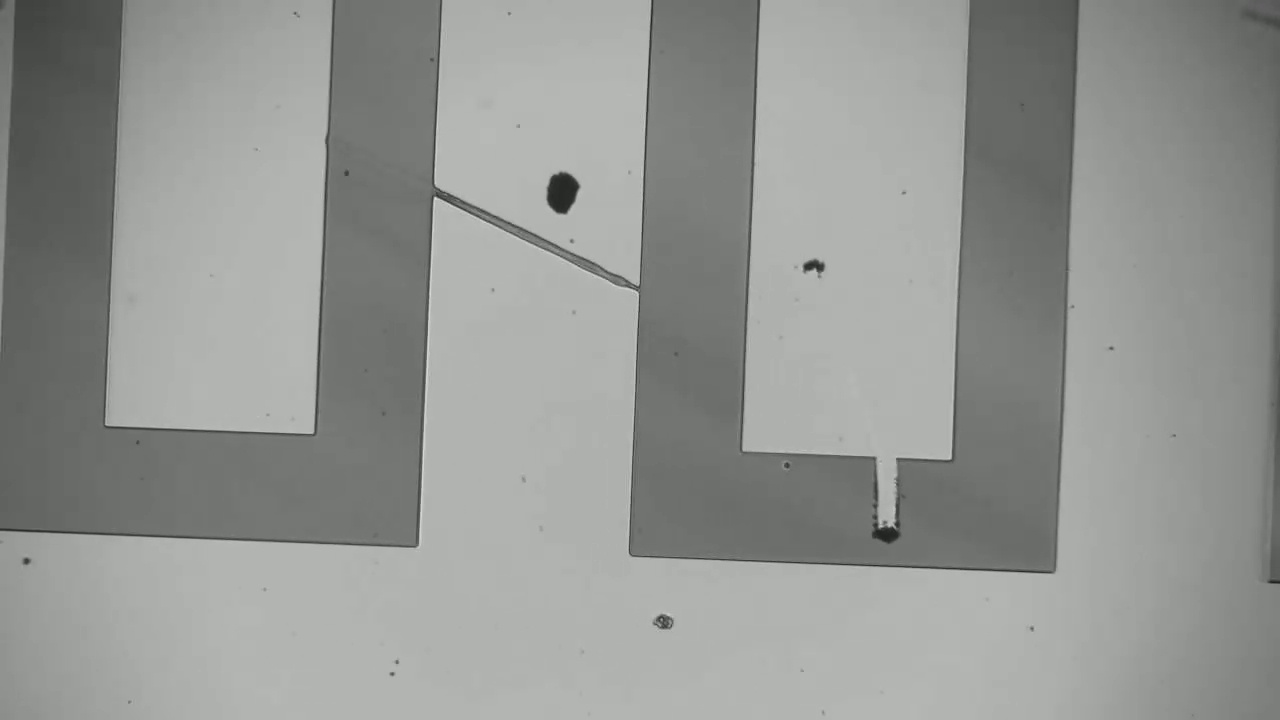Short_circuit: (842, 439, 918, 602)
